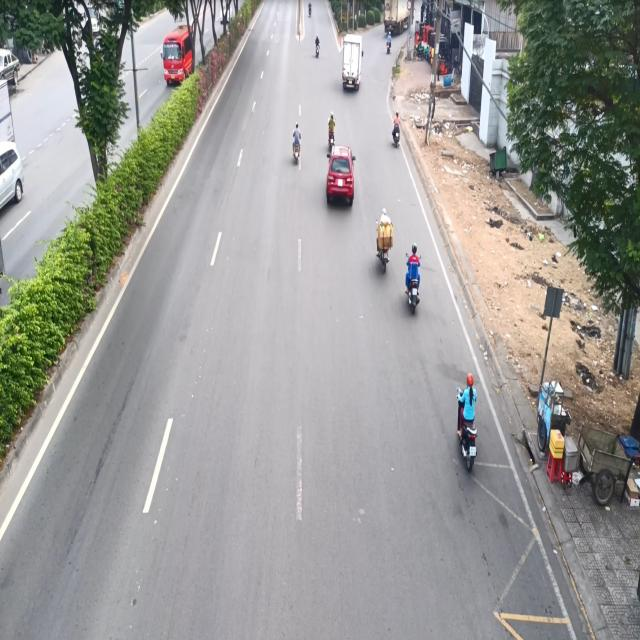car: (328, 136, 357, 208)
motor: (454, 373, 479, 476), (402, 240, 422, 312), (376, 206, 392, 276), (290, 118, 303, 166), (392, 109, 403, 153)
truck: (339, 30, 364, 96)
